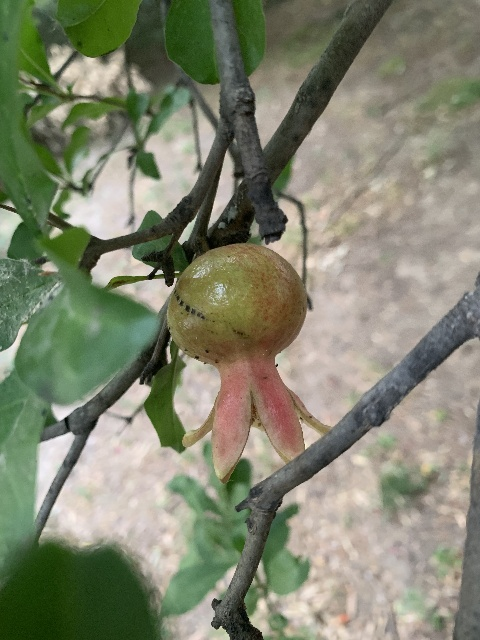early-fruit: (166, 243, 333, 484)
